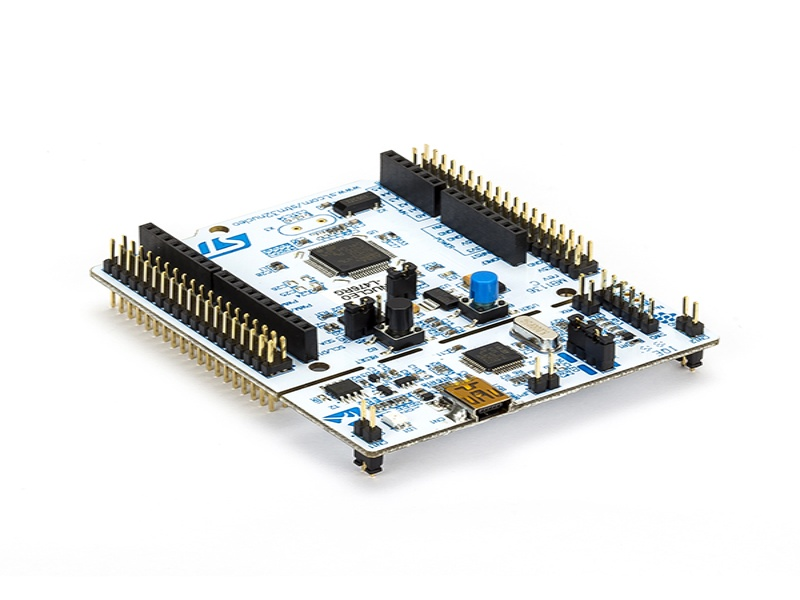stmnucleo: (88, 121, 739, 453)
